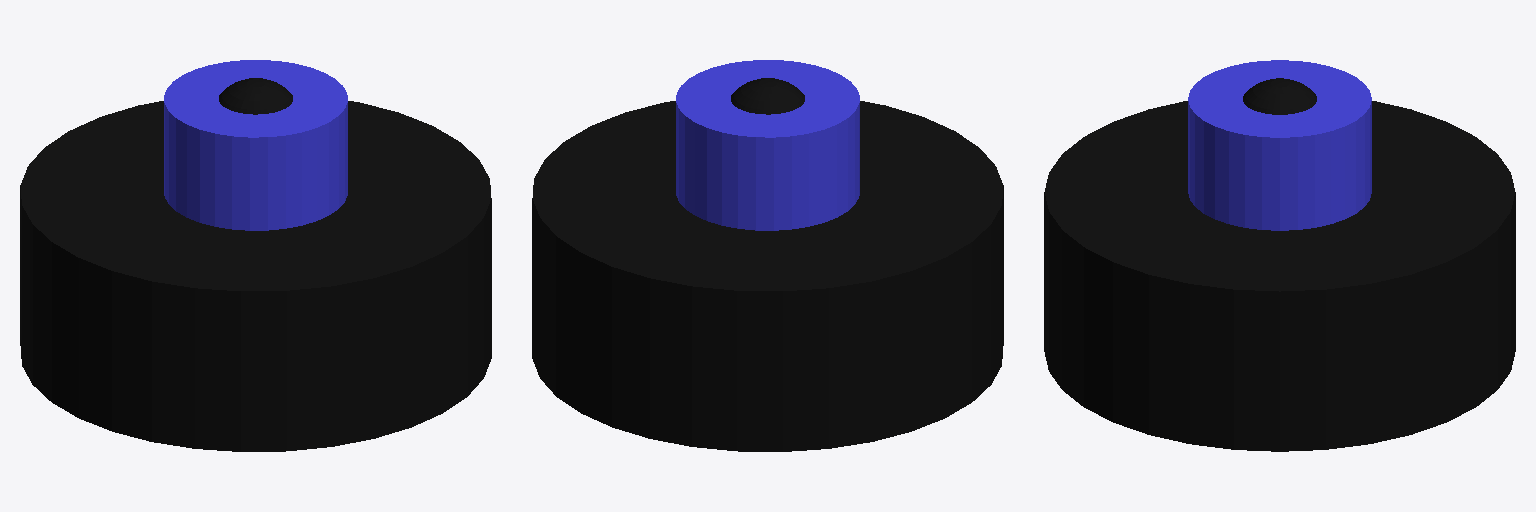
URDF robot description (evolved_robot):
<?xml version="1.0"?>
<robot name="evolved_robot">
  <material name="metal">
    <color rgba="0.7 0.7 0.7 1.0"/>
  </material>
  <material name="plastic">
    <color rgba="0.3 0.3 0.9 1.0"/>
  </material>
  <material name="rubber">
    <color rgba="0.1 0.1 0.1 1.0"/>
  </material>
  <material name="red">
    <color rgba="1.0 0.0 0.0 1.0"/>
  </material>
  <material name="wheel_material">
    <color rgba="0.2 0.2 0.2 1.0"/>
  </material>
  <link name="base_link">
    <visual>
      <geometry><cylinder radius="0.16386570159937627" length="0.12306404708306033"/></geometry>
      <material name="rubber"/>
    </visual>
    <collision>
      <geometry><cylinder radius="0.16386570159937627" length="0.12306404708306033"/></geometry>
    </collision>
    <inertial>
      <mass value="5.0"/>
      <inertia ixx="0.07975055347202432" ixy="0" ixz="0" 
               iyy="0.07975055347202432" iyz="0" 
               izz="0.13425984080327916"/>
    </inertial>
  </link>
  <link name="link1">
    <visual>
      <geometry><cylinder radius="0.06400245244877761" length="0.1427863277072362"/></geometry>
      <material name="plastic"/>
    </visual>
    <collision>
      <geometry><cylinder radius="0.06400245244877761" length="0.1427863277072362"/></geometry>
    </collision>
    <inertial>
      <mass value="0.5"/>
      <inertia ixx="0.0027230730948743643" ixy="0" ixz="0" 
               iyy="0.0027230730948743643" iyz="0" 
               izz="0.00204815695972902"/>
    </inertial>
  </link>
  <joint name="joint1" type="prismatic">
    <parent link="base_link"/>
    <child link="link1"/>
    <origin xyz="0 0 0.061532023541530166" rpy="0 0 0"/>
    <axis xyz="0.9058000039644485 -0.3594897046685945 0.22426213468905498"/>
    <dynamics damping="0.733667224739957" friction="0.1"/>
    <limit lower="-2.170013336969622" upper="0.9438424306910559" effort="100" velocity="100"/>
  </joint>
  <link name="link2">
    <visual>
      <geometry>
        <cylinder radius="0.06369424036554744" length="0.041327053455679844"/>
      </geometry>
      <material name="wheel_material"/>
    </visual>
    <collision>
      <geometry>
        <cylinder radius="0.06369424036554744" length="0.041327053455679844"/>
      </geometry>
    </collision>
    <inertial>
      <mass value="1.0"/>
      <inertia ixx="0.0011565661762134181" ixy="0" ixz="0" 
               iyy="0.0011565661762134181" iyz="0" 
               izz="0.0020284781278720665"/>
    </inertial>
  </link>
  <joint name="joint2" type="continuous">
    <parent link="base_link"/>
    <child link="link2"/>
    <origin xyz="0 0 0" rpy="1.5708 0 0"/>
    <axis xyz="0 1 0"/>
    <dynamics damping="0.6969955237251776" friction="0.1"/>
  </joint>
  <link name="link3">
    <visual>
      <geometry><sphere radius="0.033866837791019656"/></geometry>
      <material name="rubber"/>
    </visual>
    <collision>
      <geometry><sphere radius="0.033866837791019656"/></geometry>
    </collision>
    <inertial>
      <mass value="0.5"/>
      <inertia ixx="0.00045878508078529487" ixy="0" ixz="0" 
               iyy="0.00045878508078529487" iyz="0" 
               izz="0.00045878508078529487"/>
    </inertial>
  </link>
  <joint name="joint3" type="fixed">
    <parent link="base_link"/>
    <child link="link3"/>
    <origin xyz="0 0 0.11153202354153016" rpy="0 0 0"/>
    <axis xyz="0.160765495126054 0.12929547315913087 -0.9784871671092225"/>
    <dynamics damping="0.5877010532053121" friction="0.1"/>
  </joint>
</robot>

--- Facts derived from the render (not from the file) ---
Views: 3 orthographic renders of the robot side by side, from view 1: azimuth 30°, elevation 25°; view 2: azimuth 150°, elevation 25°; view 3: azimuth 270°, elevation 25°.
Model evolved_robot with 4 links and 3 joints (1 continuous, 1 prismatic, 1 fixed), rooted at base_link, posed every joint at zero.
Links seen in each view (by area): view 1: base_link, link1, link3; view 2: base_link, link1, link3; view 3: base_link, link1, link3.
Link boxes in pixels (box(x1,y1,x2,y2)): base_link: box(20, 101, 491, 451); link1: box(164, 60, 347, 230); link3: box(219, 78, 292, 114); base_link: box(532, 101, 1003, 451); link1: box(676, 60, 859, 230); link3: box(731, 78, 804, 114); base_link: box(1044, 101, 1515, 451); link1: box(1188, 60, 1371, 230); link3: box(1243, 78, 1316, 114).
Bounding box of the posed robot: 0.3277 × 0.3277 × 0.2091 m (x, y, z).
Geometry: primitives only (box / cylinder / sphere), no mesh files.